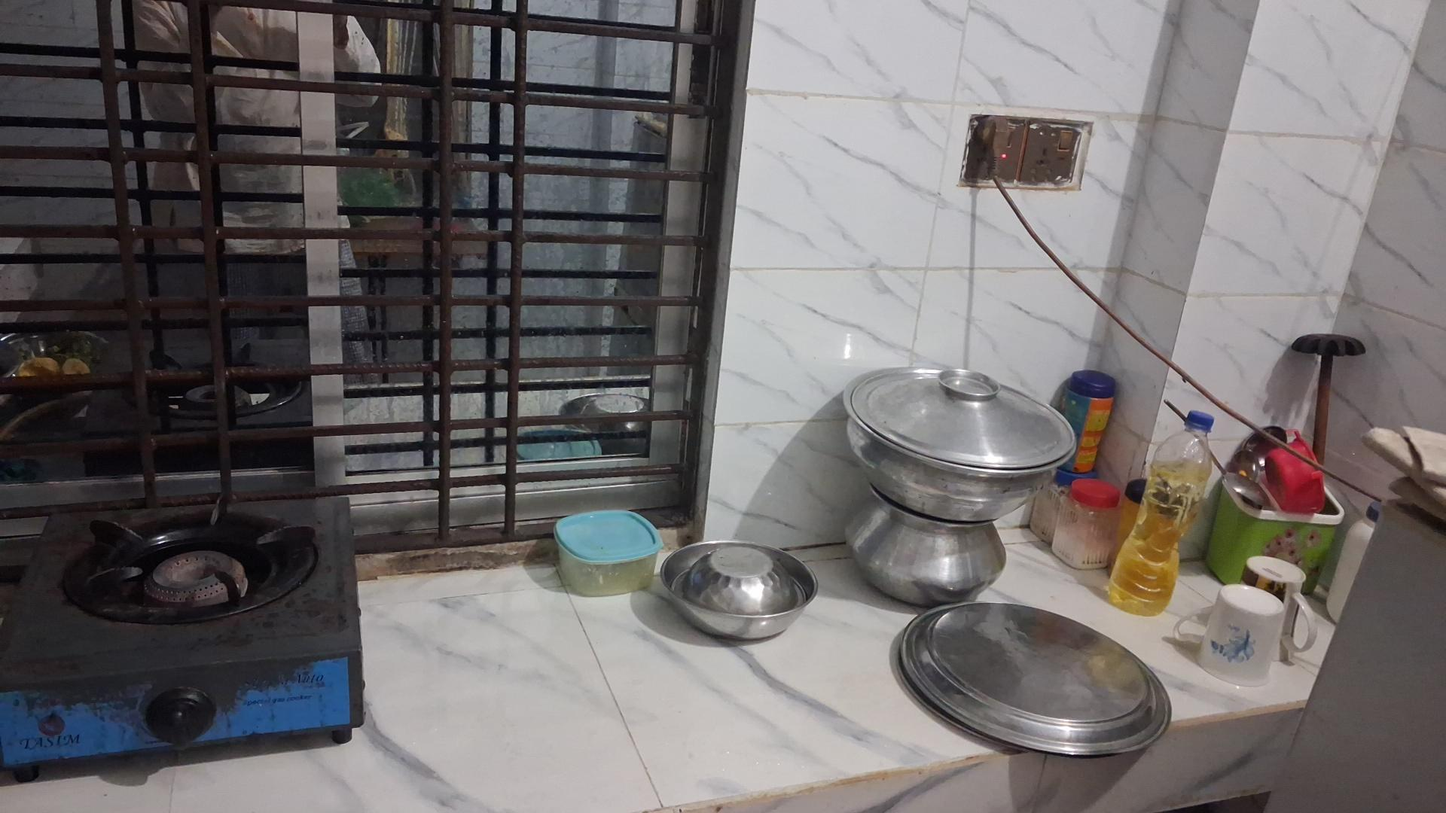Bottle: (1105, 408, 1221, 617)
Bowl: (656, 538, 819, 641)
Cup: (1196, 583, 1314, 687)
Jar: (553, 509, 664, 597), (1066, 364, 1117, 472), (1057, 482, 1116, 569)
Plate: (895, 596, 1171, 758)
Pot: (841, 359, 1079, 526), (844, 489, 1011, 601)
Window: (0, 2, 708, 531)
